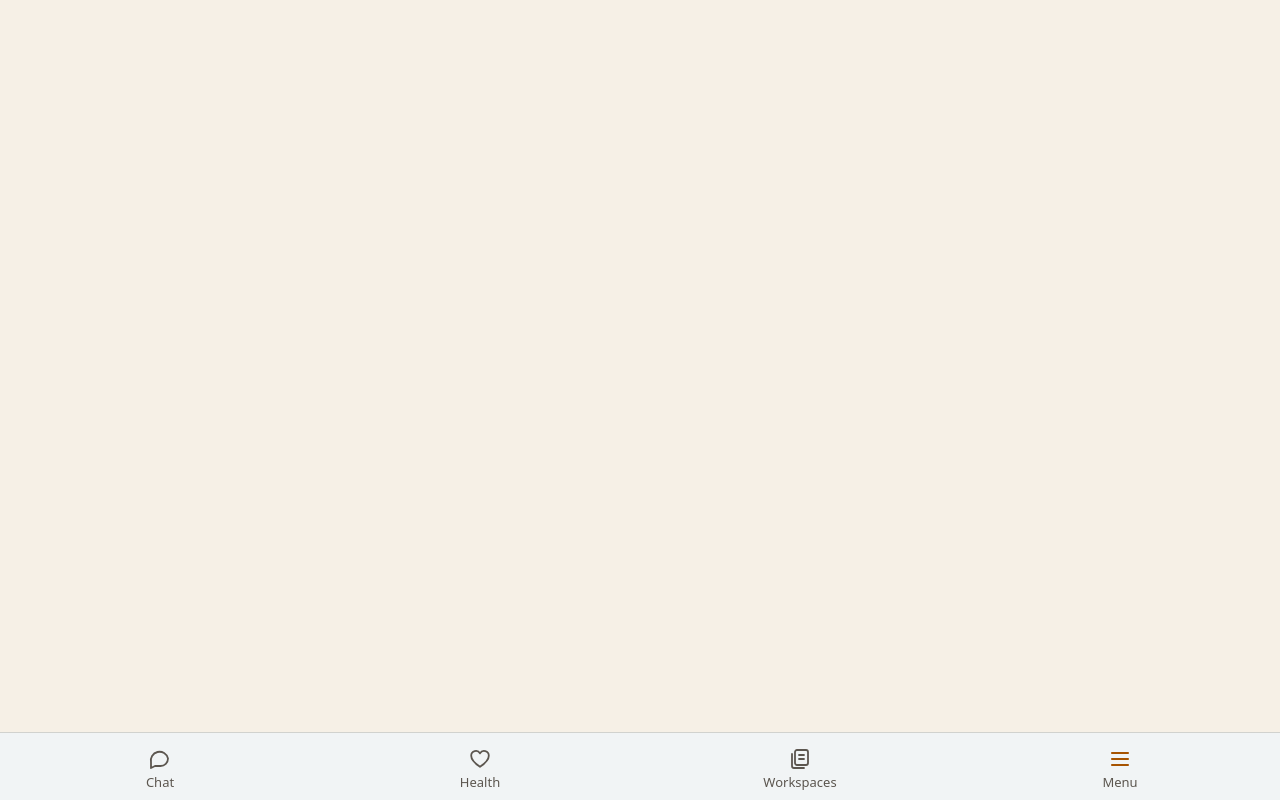
Test: mobile bottom navigation › opens the Workspaces pane and preserves Software Factory as a separate menu destination
Click the button "Workspaces": (800, 768) [640,737,960,799]
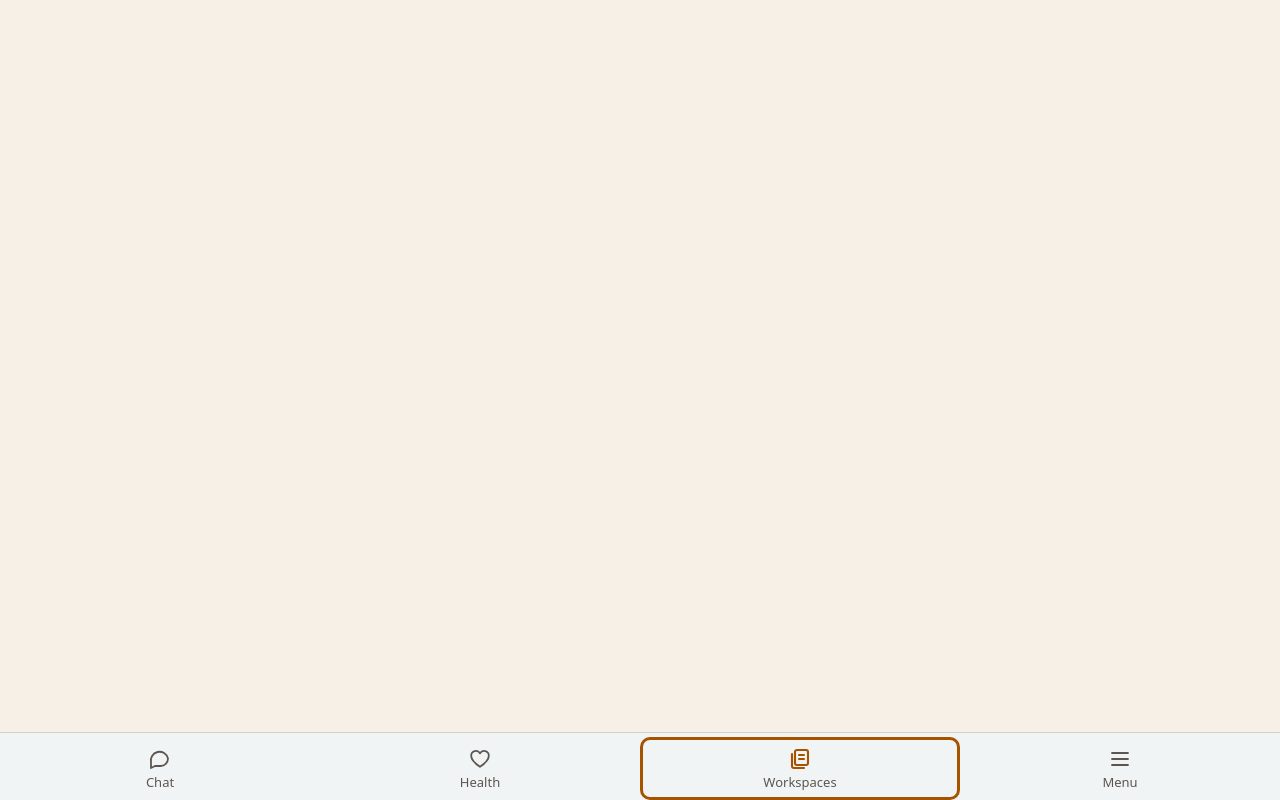
Expected: the button "Workspaces" is pressed, [640,737,960,799]
Expected: the button "Menu" does not have attribute aria-current
Click the button "Menu": (1120, 768) [960,737,1279,799]
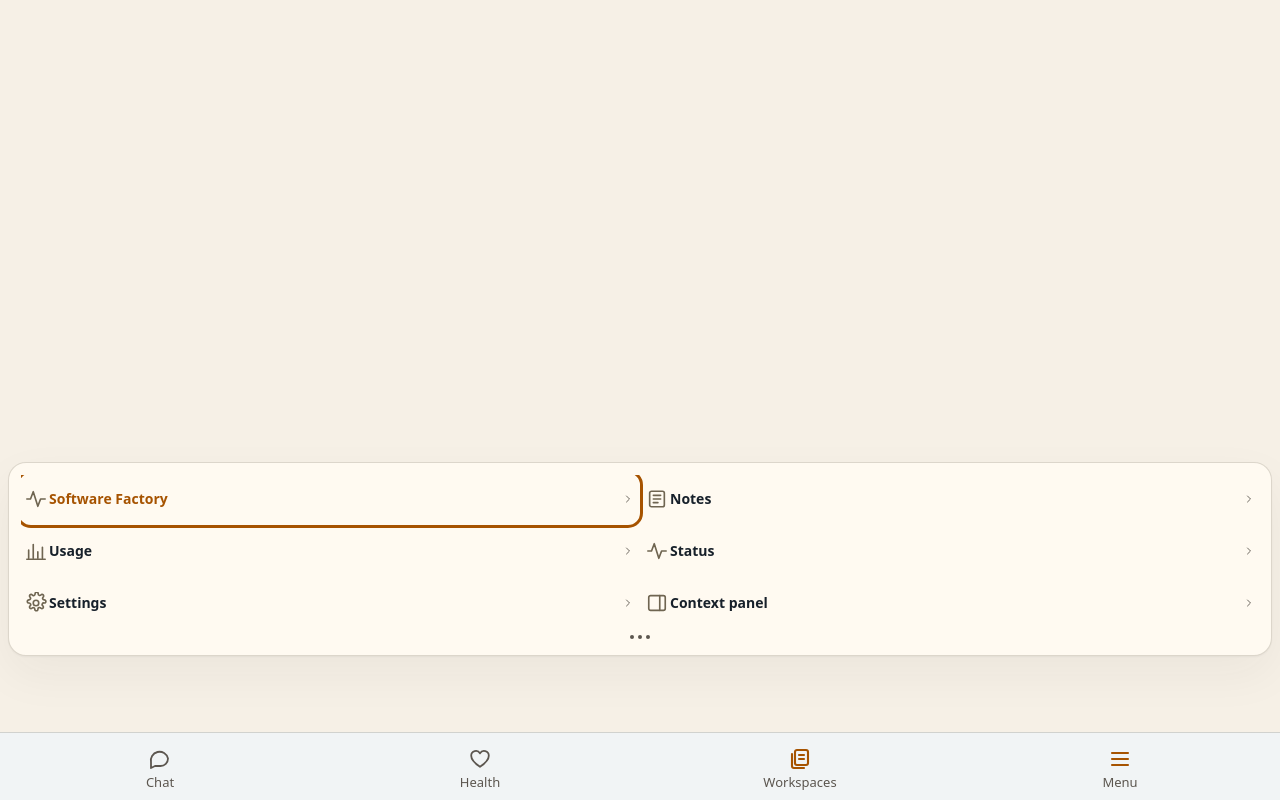
Expected: the button "Menu" is expanded, [960,737,1279,799]
Expected: the dialog named "Go to" is shown, [8,462,1272,656]
Expected: the button "Context panel" is shown, [642,579,1259,627]
